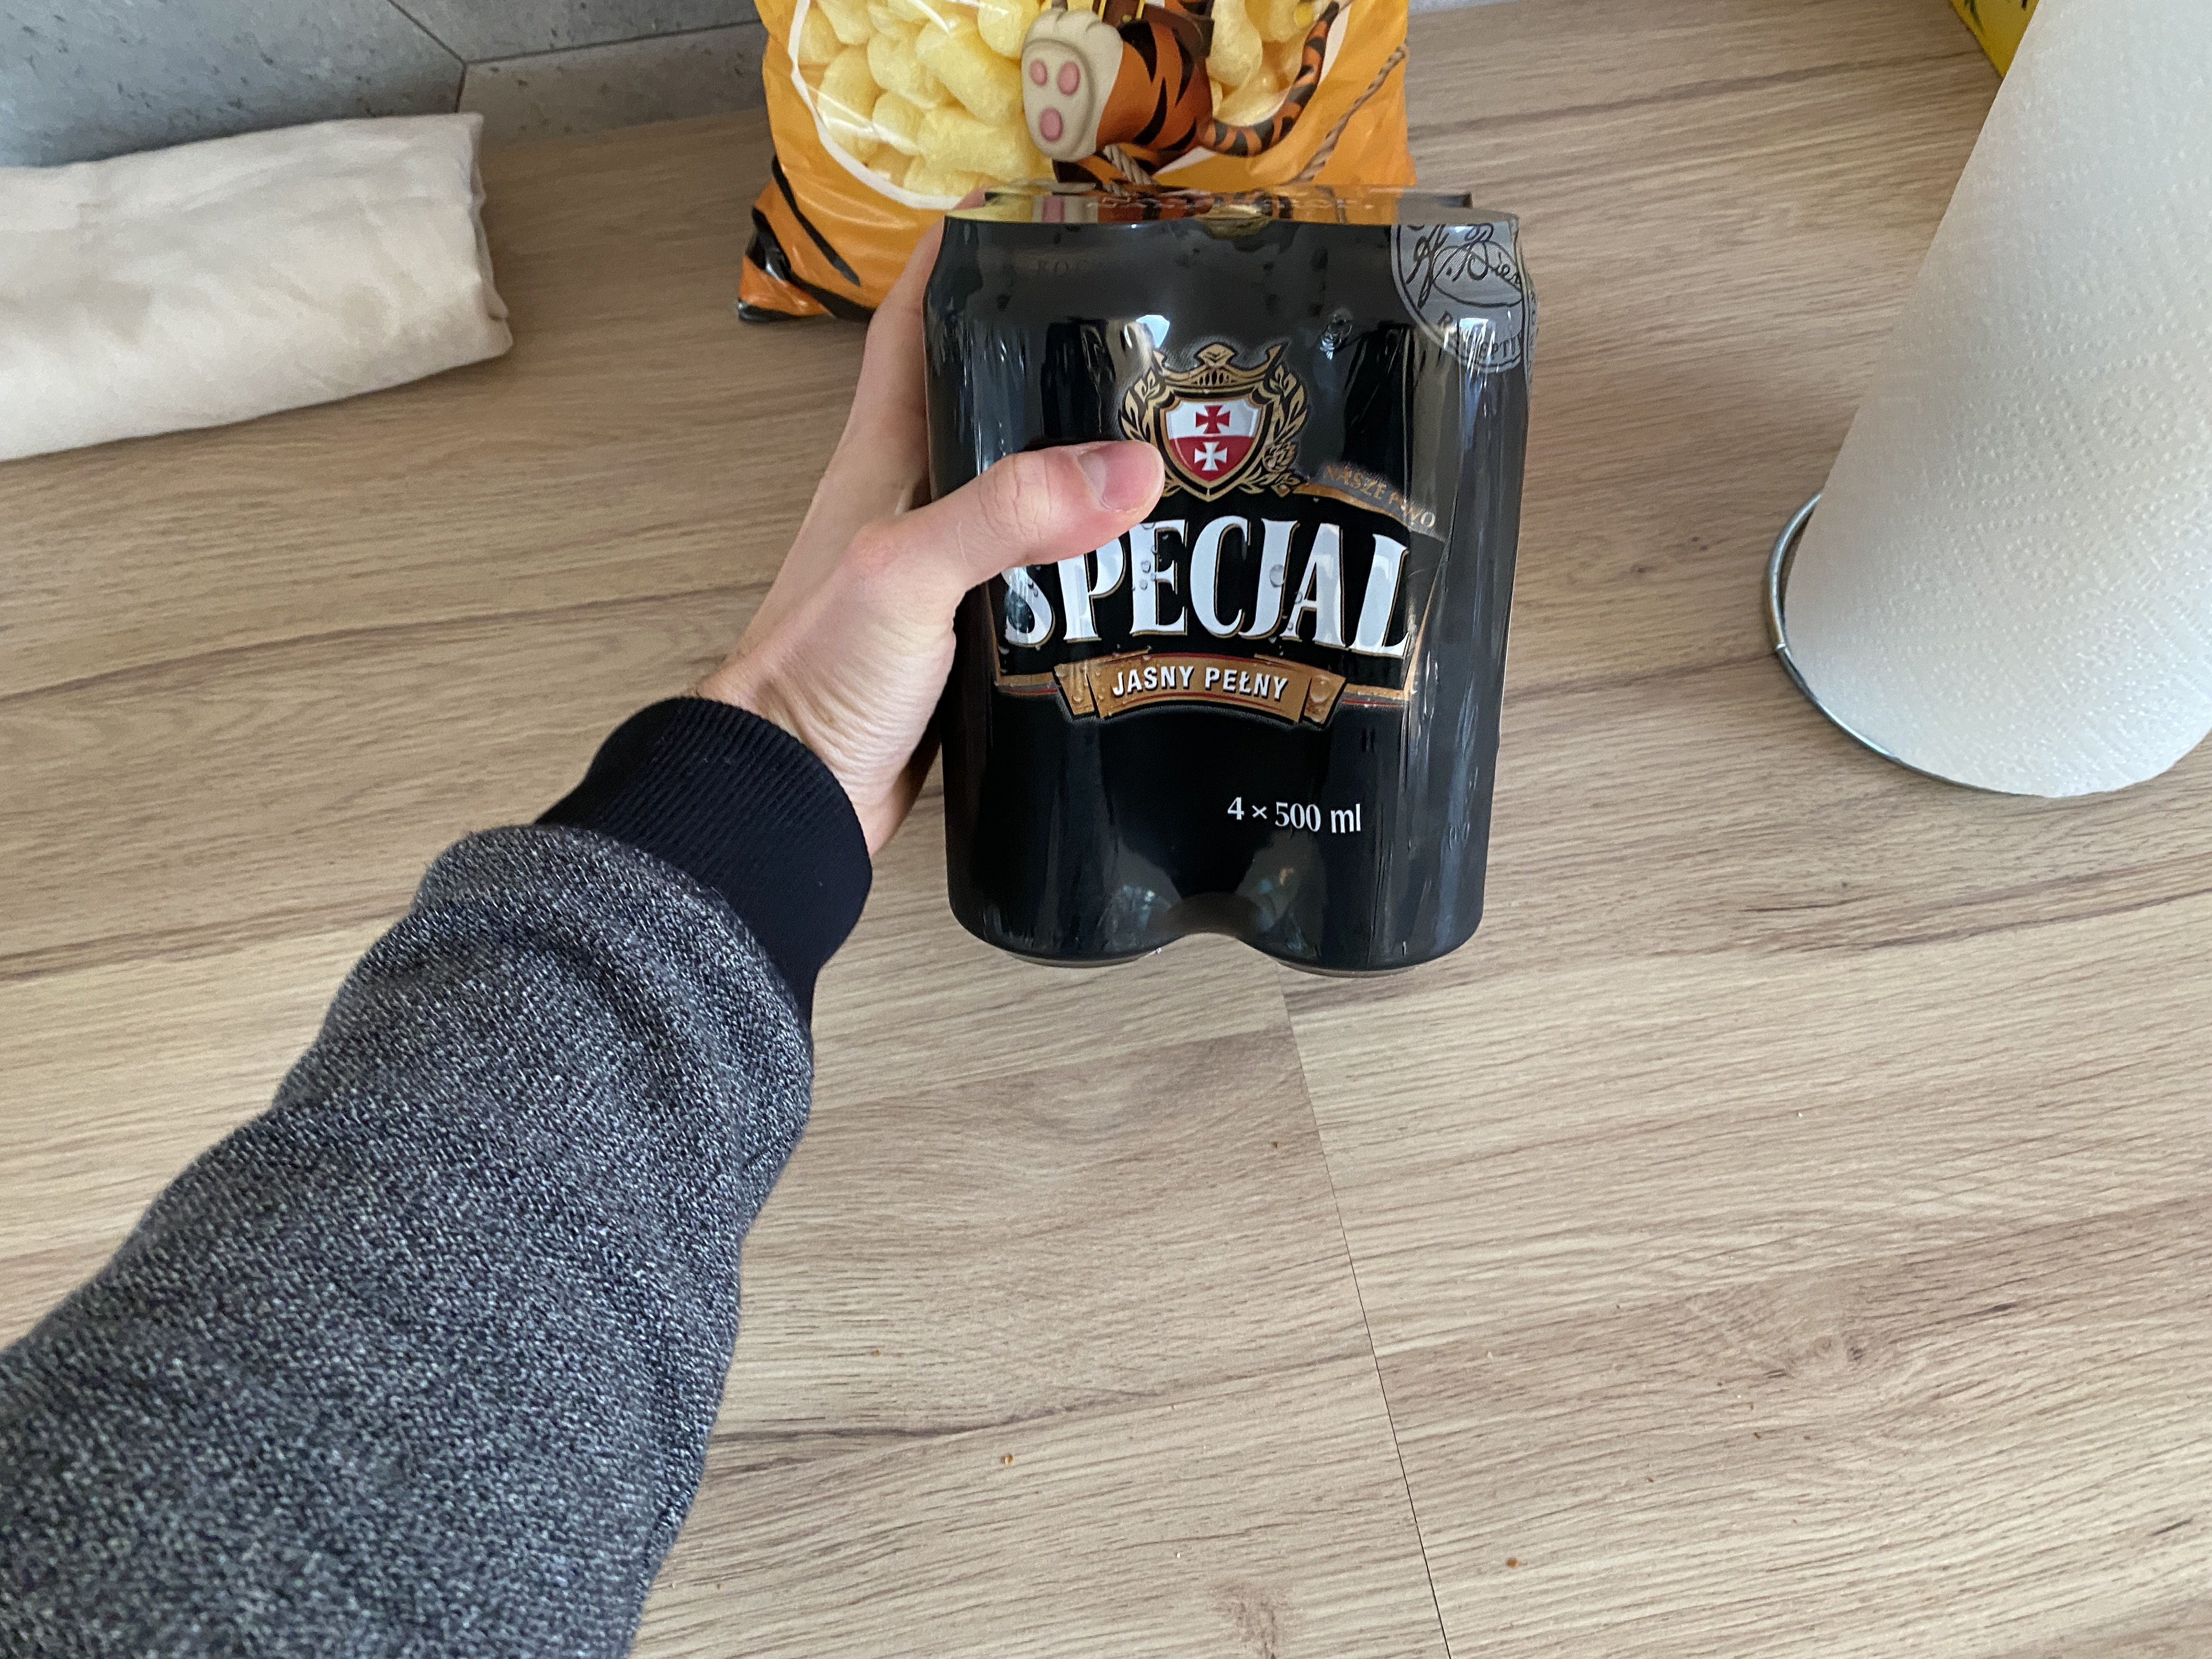specjal: (921, 202, 1531, 972)
